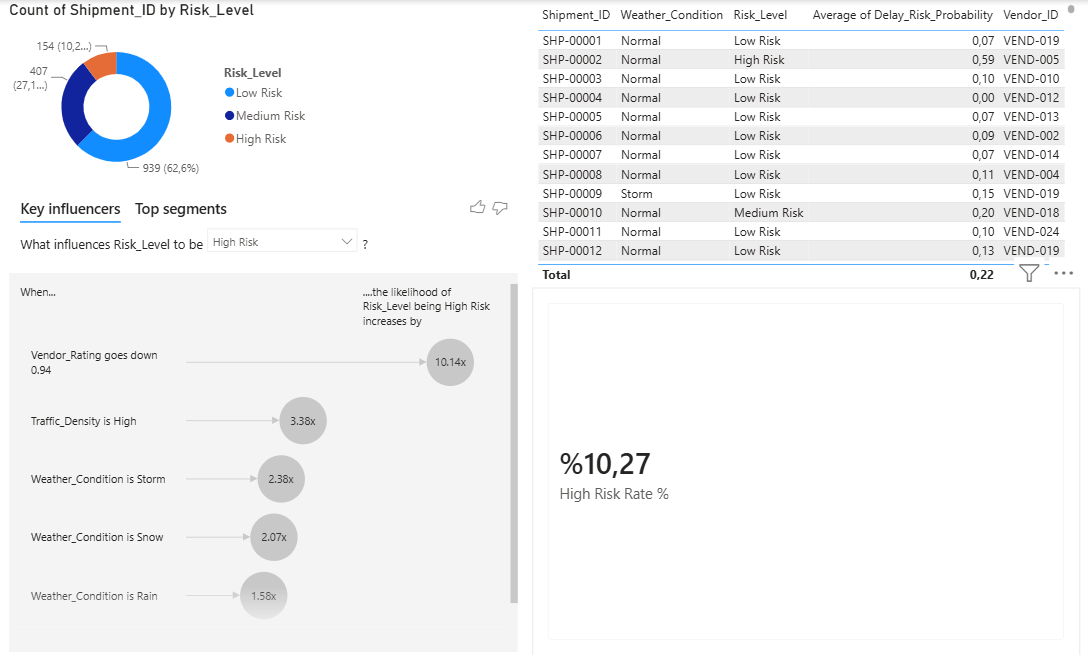

The dashboard page shown, as its layout file describes it:
{"tool":"powerbi","page":{"name":"Early Warning Panel","canvas":[1280,720],"ordinal":1},"visuals":[{"type":"donutChart","fields":{"Category":["Fact_Shipments_with_ML.Risk_Level"],"Y":["Count(Fact_Shipments_with_ML.Shipment_ID)"]},"box":[9.6,0,344.4,204.5],"z":0},{"type":"keyDriversVisual","fields":{"ExplainBy":["Dim_Route.Weather_Condition","Dim_Route.Traffic_Density","Dim_Vendor.Vendor_Rating"],"Target":["Fact_Shipments_with_ML.Risk_Level"]},"box":[9.6,204.5,568.1,516],"z":1000},{"type":"tableEx","fields":{"Values":["Fact_Shipments_with_ML.Shipment_ID","Dim_Route.Weather_Condition","Fact_Shipments_with_ML.Risk_Level","Avg(Fact_Shipments_with_ML.Delay_Risk_Probability)","Fact_Shipments_with_ML.Vendor_ID"]},"box":[588.7,0,601,315.6],"z":2000},{"type":"cardVisual","fields":{"Data":["Fact_Shipments_with_ML.High Risk Rate %"]},"box":[589,316,601,404],"z":3000}]}

Visuals, with their boxes on the page's 1280x720 design canvas (x1, y1, x2, y2). These are canvas units, not pixel positions in the 1088x655 screenshot, which may show the page scaled, cropped or inside an application window:
donutChart - Fact_Shipments_with_ML.Risk_Level x Count(Fact_Shipments_with_ML.Shipment_ID): {"x1": 10, "y1": 0, "x2": 354, "y2": 204}
keyDriversVisual - Dim_Route.Weather_Condition x Dim_Route.Traffic_Density: {"x1": 10, "y1": 204, "x2": 578, "y2": 720}
tableEx - Fact_Shipments_with_ML.Shipment_ID x Dim_Route.Weather_Condition: {"x1": 589, "y1": 0, "x2": 1190, "y2": 316}
cardVisual - Fact_Shipments_with_ML.High Risk Rate %: {"x1": 589, "y1": 316, "x2": 1190, "y2": 720}
